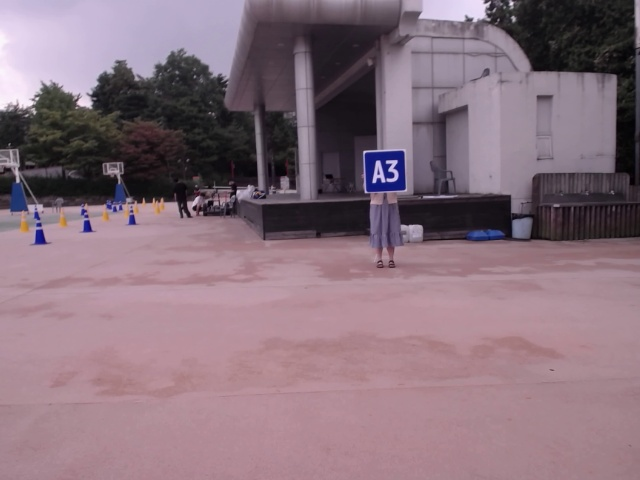delivery_a3: (363, 150, 406, 193)
